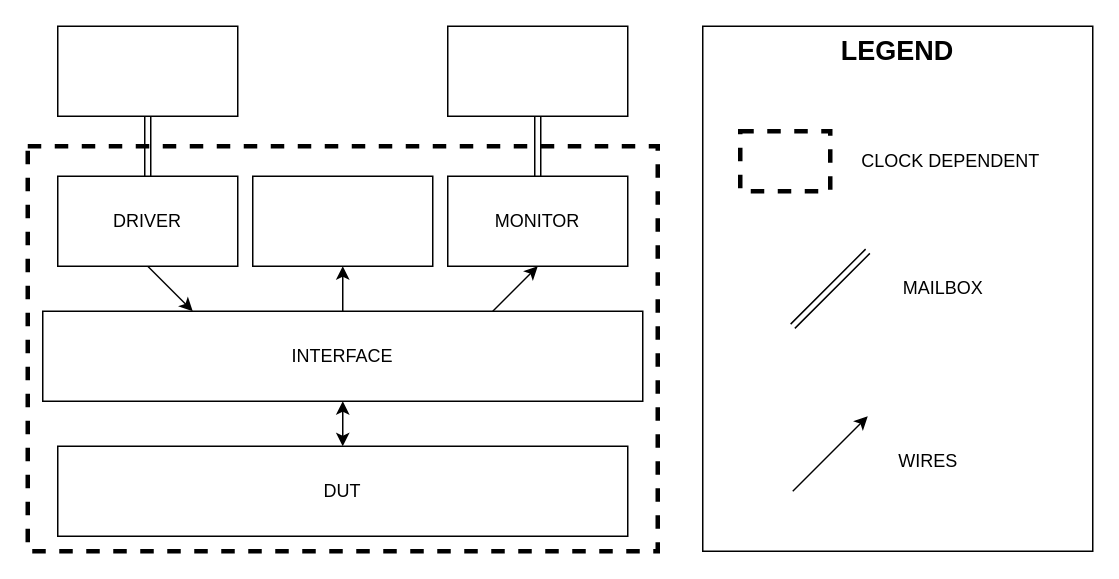
Image size: 1119x579. Some labels were removed from this diagram. Here are the shapes that lost their labels. From the top down, the centre of each, then its label:
At (x=147, y=70): "GENERATOR".
At (x=537, y=70): "SCOREBOARD".
At (x=342, y=220): "CHECKER".
